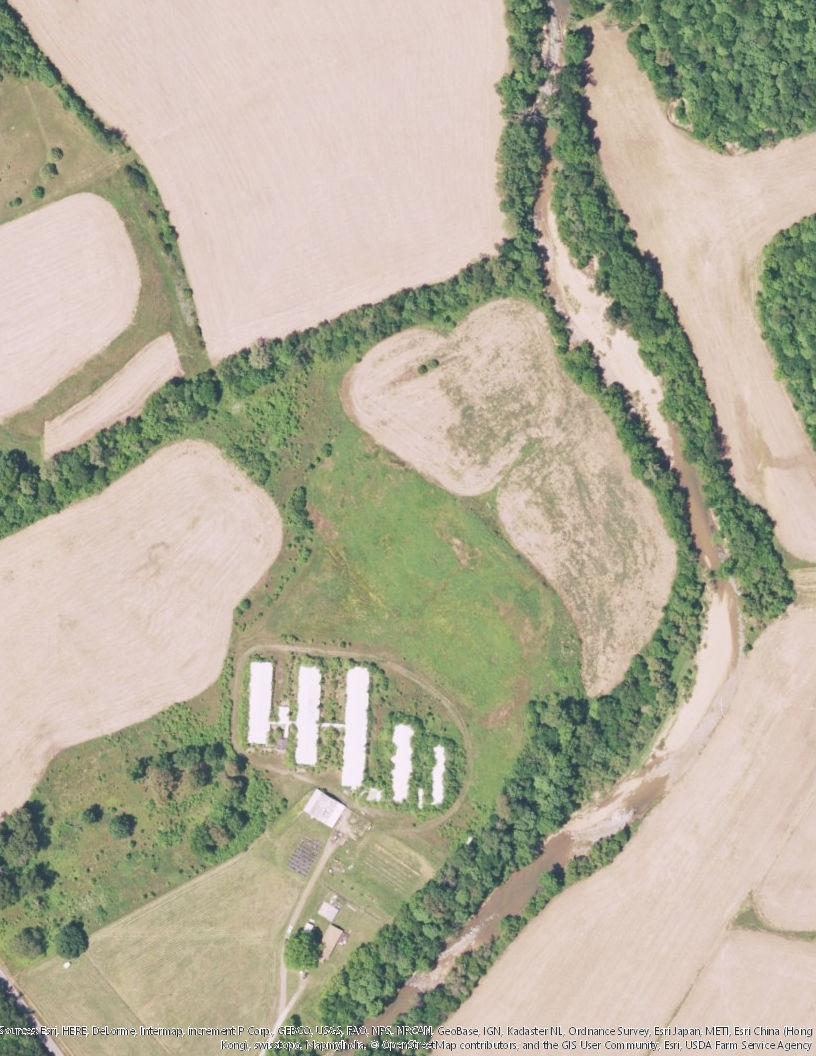cafo: (340, 664, 373, 788), (293, 662, 321, 765), (246, 657, 277, 745), (389, 722, 417, 803), (425, 741, 449, 809)
